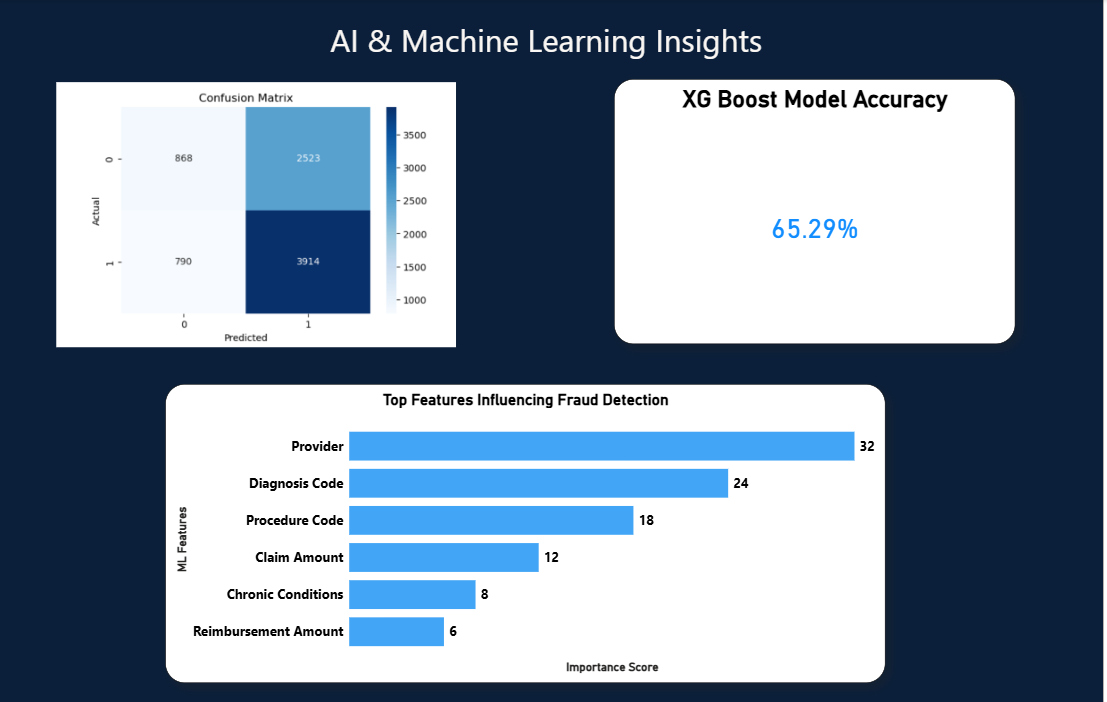

The dashboard page shown, as its layout file describes it:
{"tool":"powerbi","page":{"name":"AI & Machine Learning Insights","canvas":[1700,1080],"ordinal":2},"visuals":[{"type":"textbox","box":[22.1,25.8,1656.5,99.4],"z":0},{"type":"card","title":"XG Boost Model Accuracy","fields":{"Values":["Sum(Table.Value)"]},"box":[557.7,125.2,537.4,287.1],"z":1000},{"type":"clusteredBarChart","title":"Top Features Influencing Fraud Detection","fields":{"Category":["Table (2).Feature"],"Y":["Sum(Table (2).Importance)"]},"box":[808,474.8,839.3,417.8],"z":6000},{"type":"image","box":[23,473.3,703.2,417.7],"z":8001}]}

Visuals, with their boxes in screenshot pixels (x1, y1, x2, y2), scaled from the page's 1700x1080 canvas onto the 1107x702 screenshot:
textbox: <region>14, 17, 1093, 81</region>
"XG Boost Model Accuracy" card: <region>363, 81, 713, 268</region>
"Top Features Influencing Fraud Detection" clusteredBarChart: <region>526, 309, 1073, 580</region>
image: <region>15, 308, 473, 579</region>
